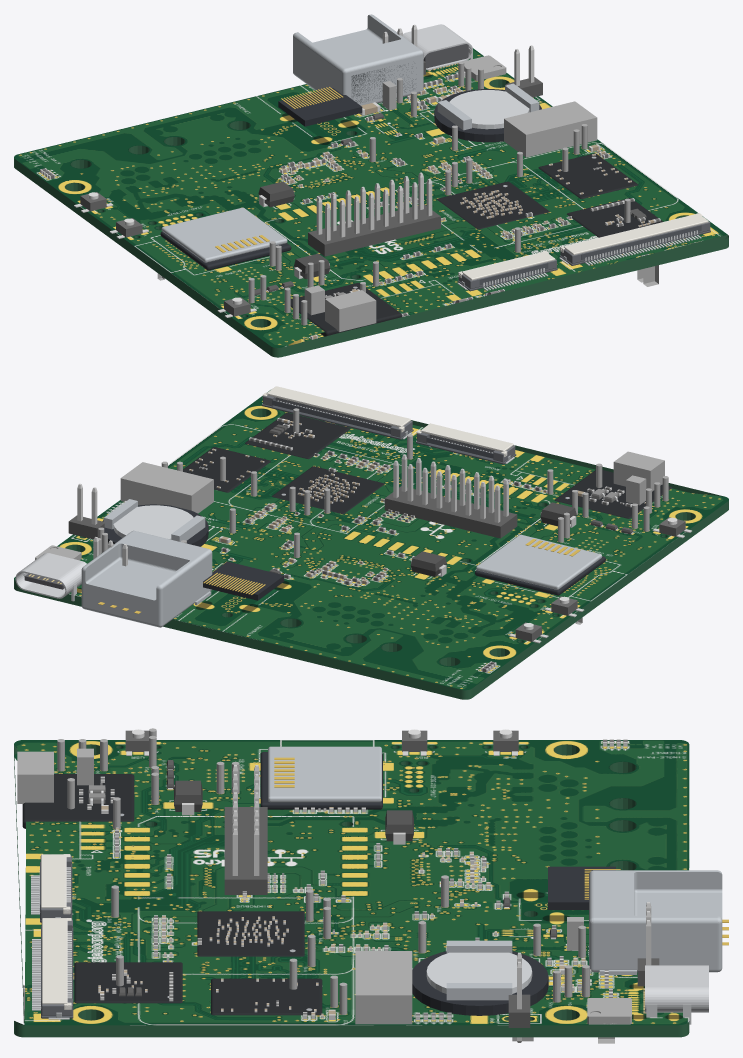
Rendered from without-wired-networking.glb.
The picture shows the model from 3 angles, top to bottom: view 1: azimuth 30°, elevation 25°; view 2: azimuth 150°, elevation 25°; view 3: azimuth 270°, elevation 25°; orthographic projection. The views are drawn at different scales.
Parts seen in each view (by area): view 1: Box0, J13, J21, J1, J10, J8, J19, U1, U2, J17, J4, J14 (+7 smaller); view 2: Box0, J13, J21, J1, J8, J19, J10, U1, J14, U3, J17, J4 (+7 smaller); view 3: Box0, J13, J10, J1, U1, J21, J19, U2, U3, J8, U5, J14 (+12 smaller).
Part boxes in pixels (x1,y1,x2,y2): Box0: (14,48,728,357); J13: (293,14,423,105); J21: (308,172,440,256); J1: (160,207,291,270); J10: (434,83,541,142); J8: (559,213,710,265); J19: (504,101,597,157); U1: (436,181,549,229); U2: (538,153,638,198); J17: (457,251,557,291); J4: (278,87,362,126); J14: (403,24,472,71); Box0: (14,390,728,699); J13: (81,530,212,627); J21: (384,454,517,538); J1: (475,534,605,595); J8: (262,386,413,439); J19: (120,462,213,513); J10: (102,499,208,546); U1: (272,466,384,514); J14: (15,553,86,601); U3: (245,412,350,459); J17: (416,423,516,464); J4: (203,561,284,600); Box0: (14,740,689,1037); J13: (589,870,728,974); J10: (412,940,548,1015); J1: (260,746,382,809); U1: (197,911,304,956); J21: (224,765,267,894); J19: (355,951,412,1024); U2: (211,978,322,1015); U3: (74,962,182,1003); J8: (32,918,73,1019); U5: (22,774,134,828); J14: (643,965,708,1024).
Size of the model in its own units: 81.48 by 13.41 by 84.72.
Materials: 35 (2 with a texture image).
